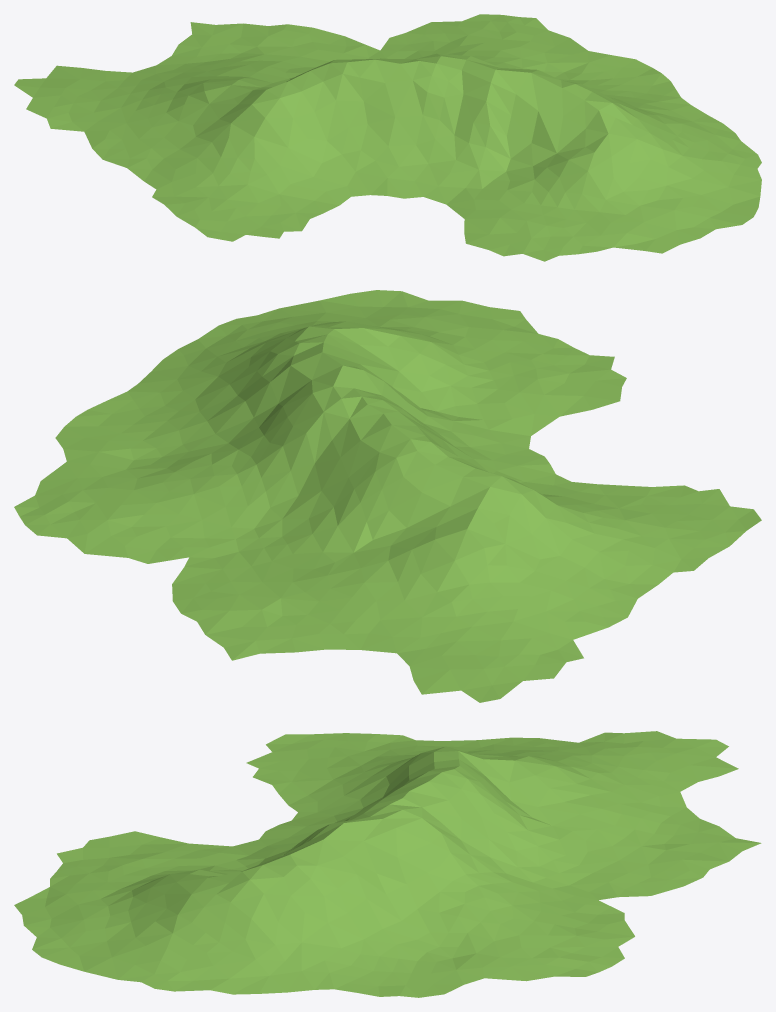
Rendered from MT_Mountain_L_a_07.fbx.
3 views of the same model, one above another, from view 1: azimuth 30°, elevation 25°; view 2: azimuth 150°, elevation 25°; view 3: azimuth 270°, elevation 25° (orthographic). The views are drawn at different scales.
Parts seen in each view (by area): view 1: MT_Mountain_L_a_07; view 2: MT_Mountain_L_a_07; view 3: MT_Mountain_L_a_07.
Part boxes in pixels (bbox=[...]): MT_Mountain_L_a_07: bbox=[14, 14, 761, 261]; MT_Mountain_L_a_07: bbox=[14, 290, 761, 702]; MT_Mountain_L_a_07: bbox=[14, 731, 761, 997].
Size of the model in its own units: 7502 by 1011 by 8945.
